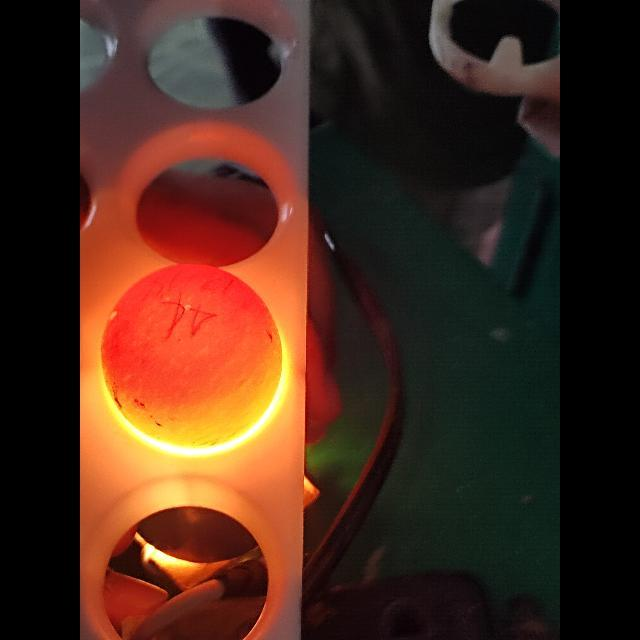Infertile: (105, 262, 285, 436)
